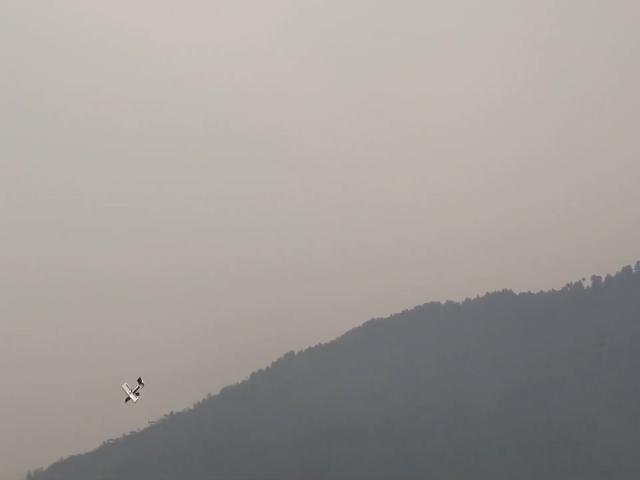plane: (120, 378, 145, 404)
